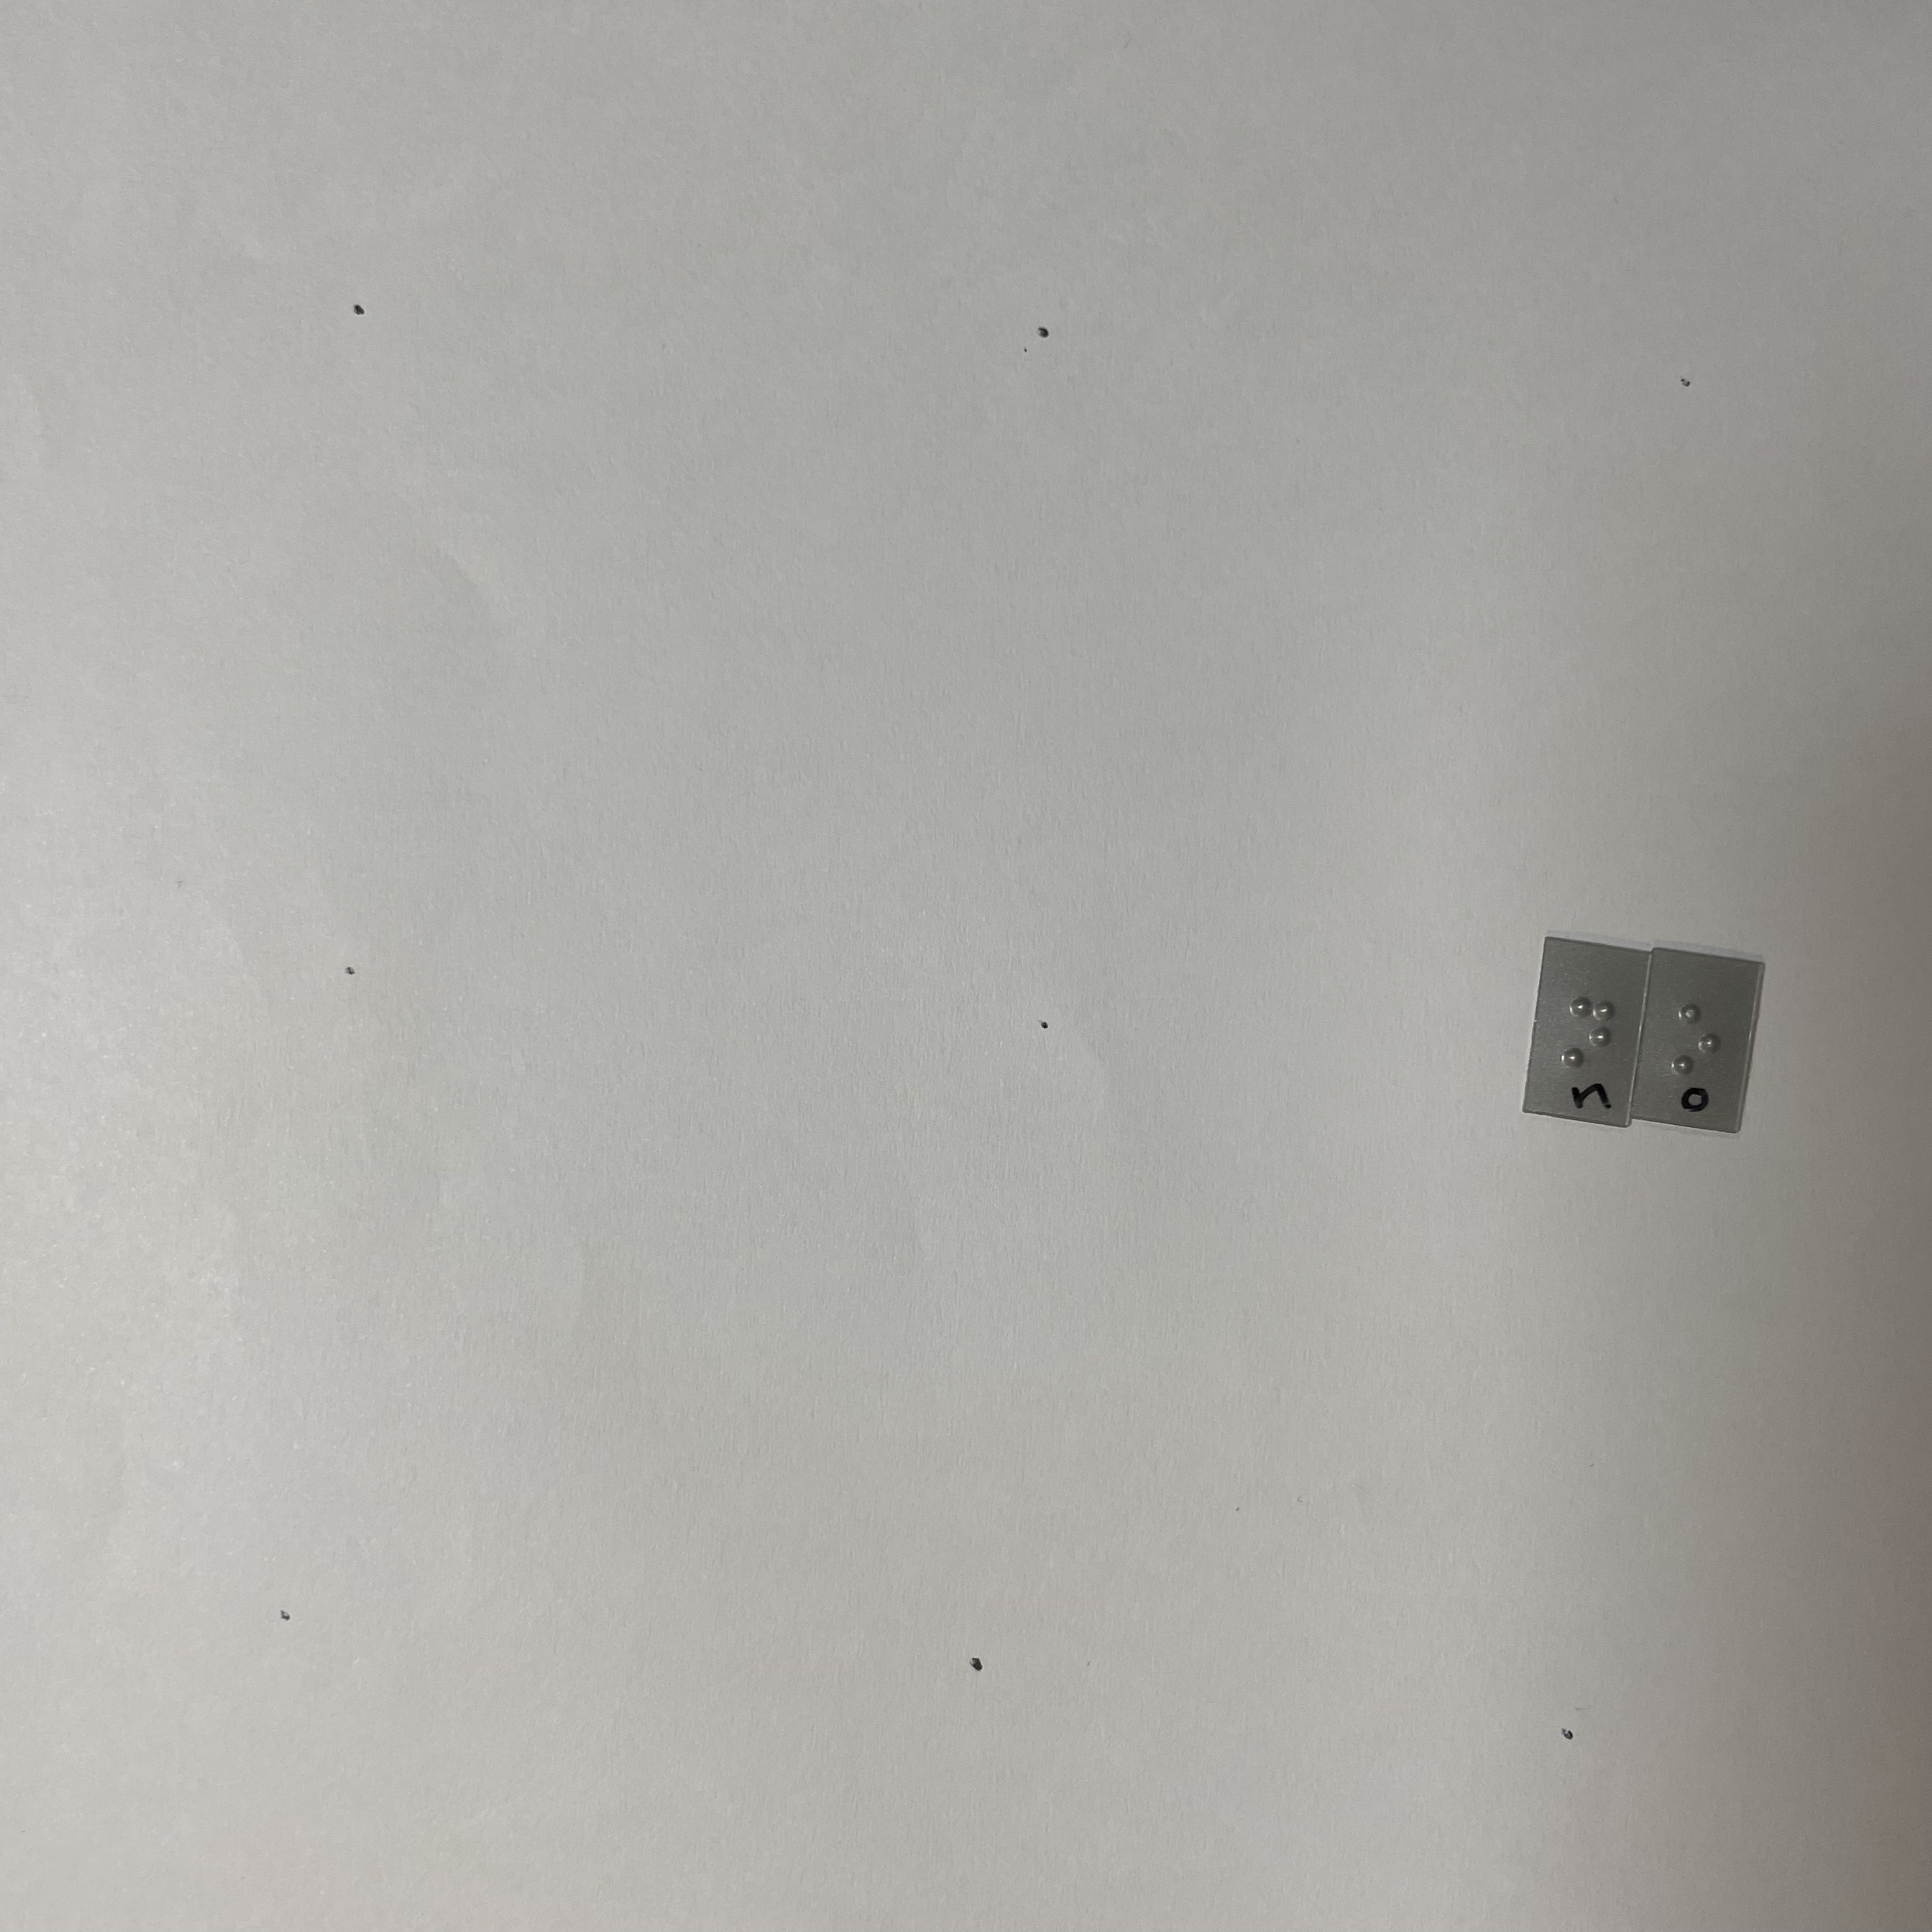n: (1560, 985, 1623, 1082)
o: (1671, 992, 1730, 1091)
